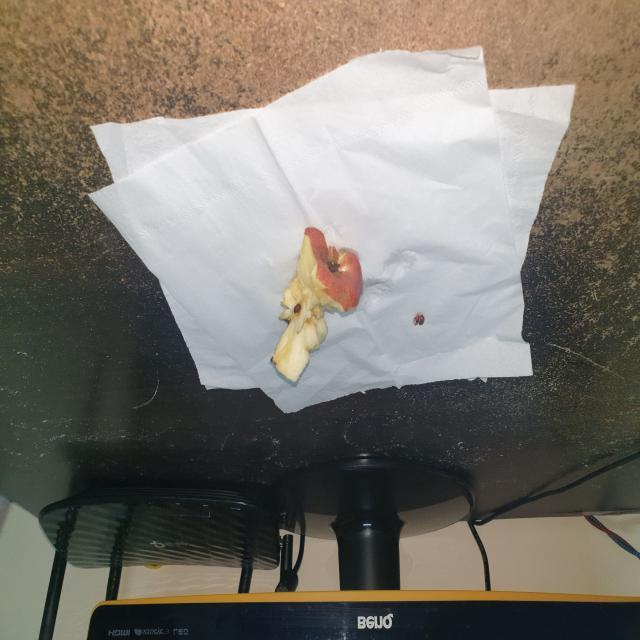apple: (258, 220, 377, 394)
